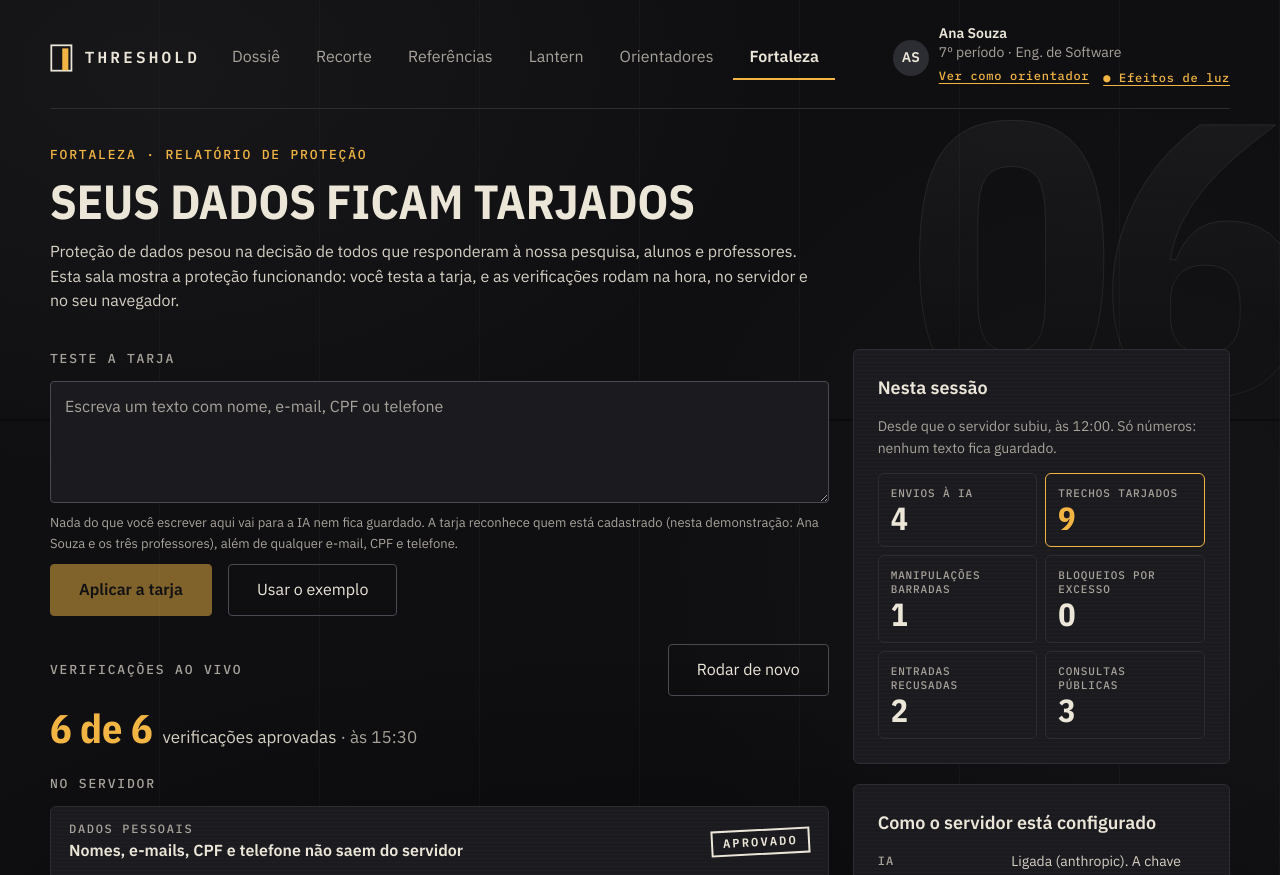
it: Tela Fortaleza › "Teste a tarja": mostra o texto original ao lado do que a IA receberia e resume o que foi protegido
Step 1. Type "Sou a Ana Souza, 123.456.789-09" into the text box named "Texto para tarjar" → (439, 442), box [50,381,829,503]
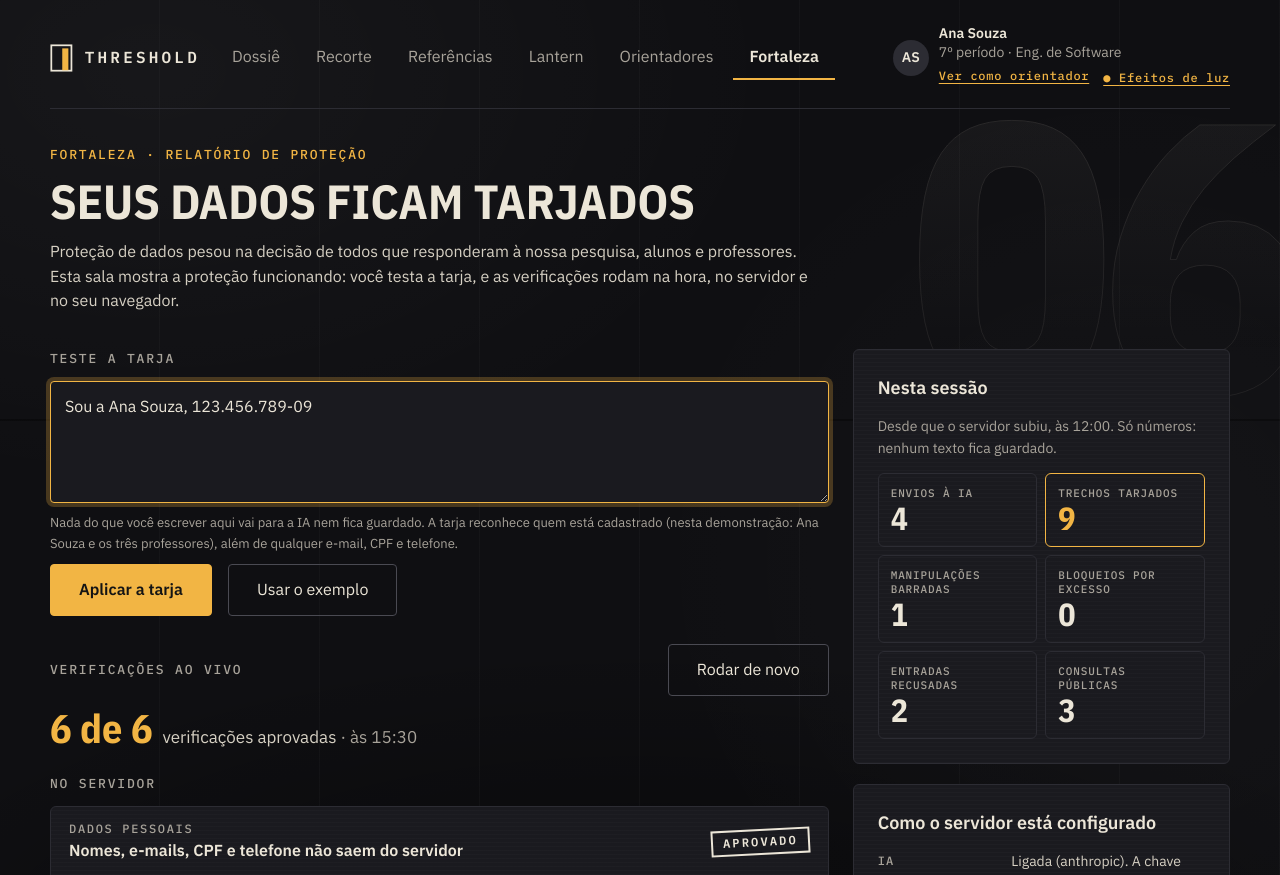
Step 2. Click the button "Aplicar a tarja" → (131, 590), box [50,564,212,616]
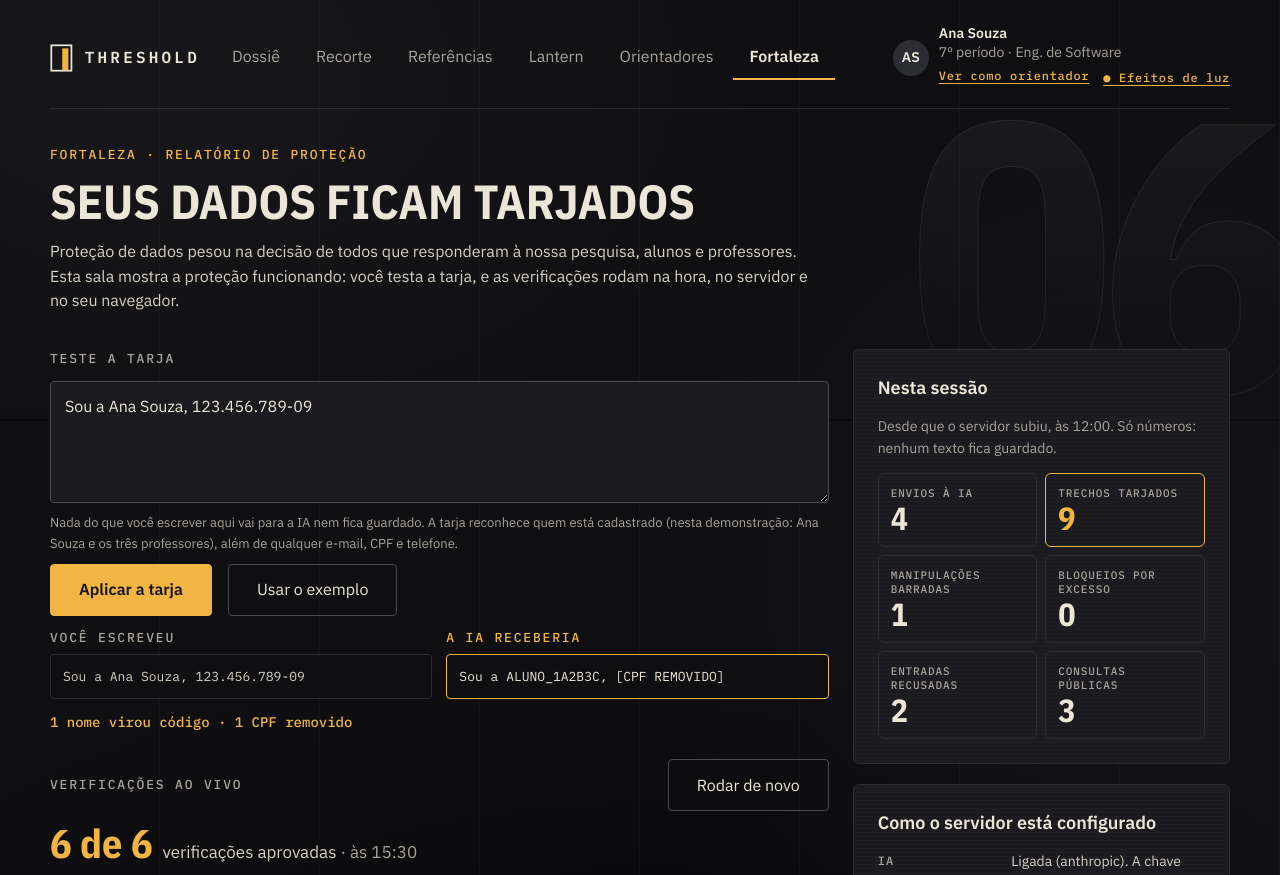
Check: the text "Sou a ALUNO_1A2B3C, [CPF REMOVIDO]" is shown, box [446,654,829,699]
Check: the text "Sou a Ana Souza, 123.456.789-09" is shown, box [50,654,432,699]
